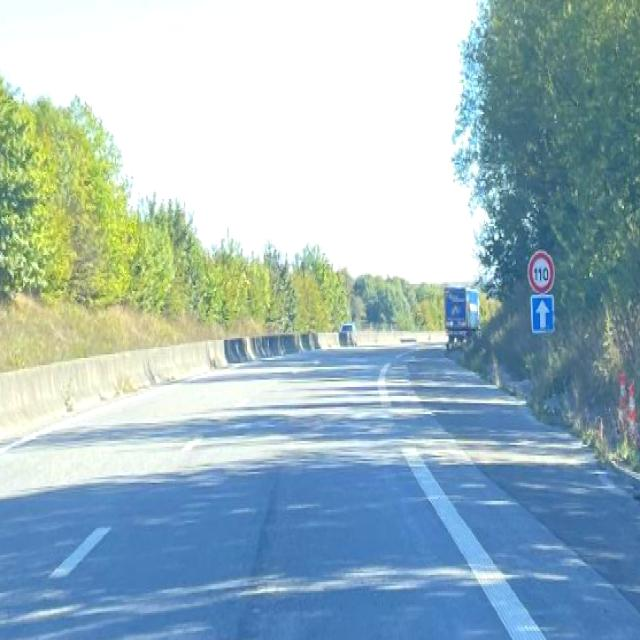speed_110: (528, 252, 554, 293)
